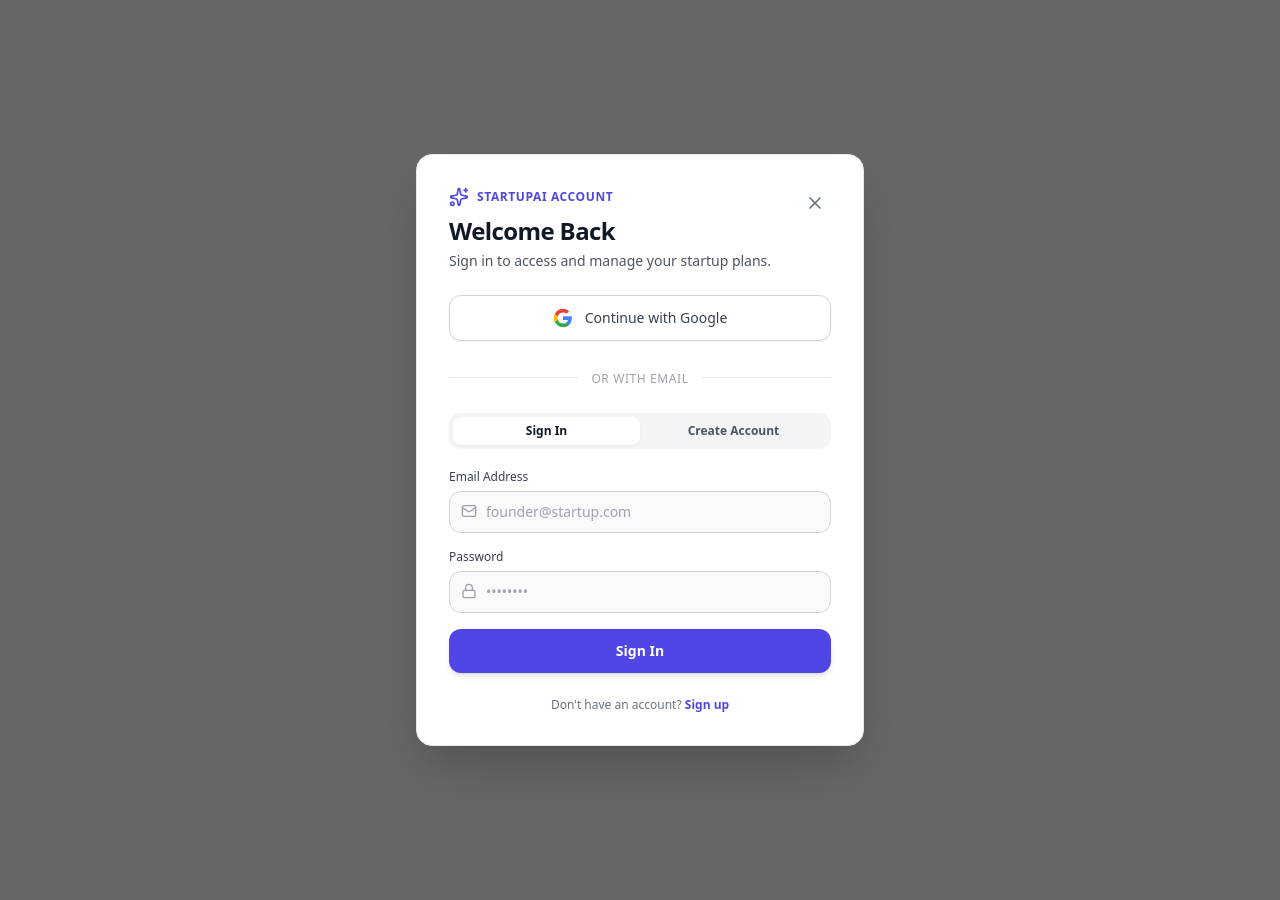
AuthModal Component › displays validation error if password is less than 8 chars on signup
The image size is (1280, 900).
Click the button with test id "auth-mode-signup" at point(734, 431), box [640,417,827,445]
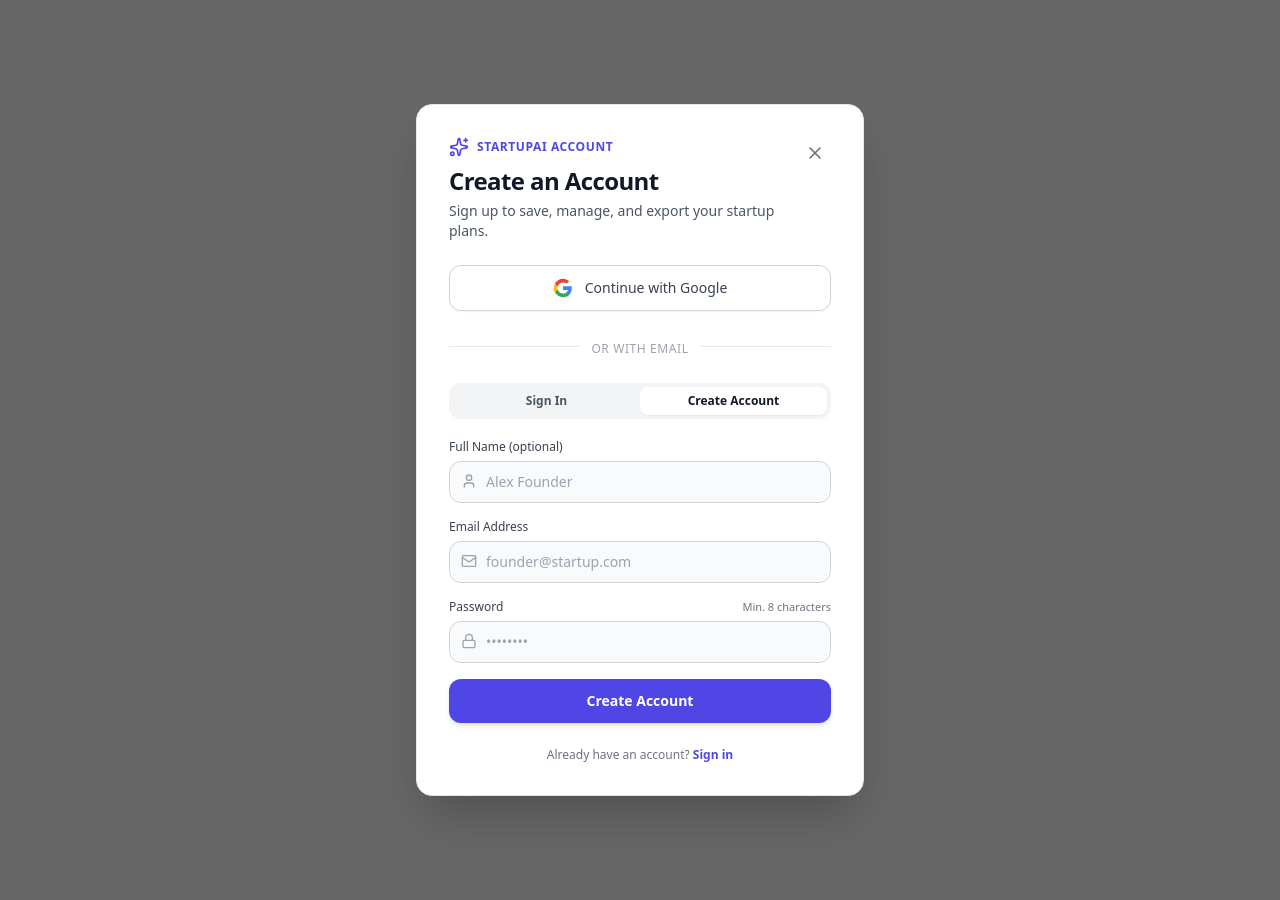
Type "test@example.com" into the field labelled "Email Address" at point(640, 562), box [449,541,831,583]
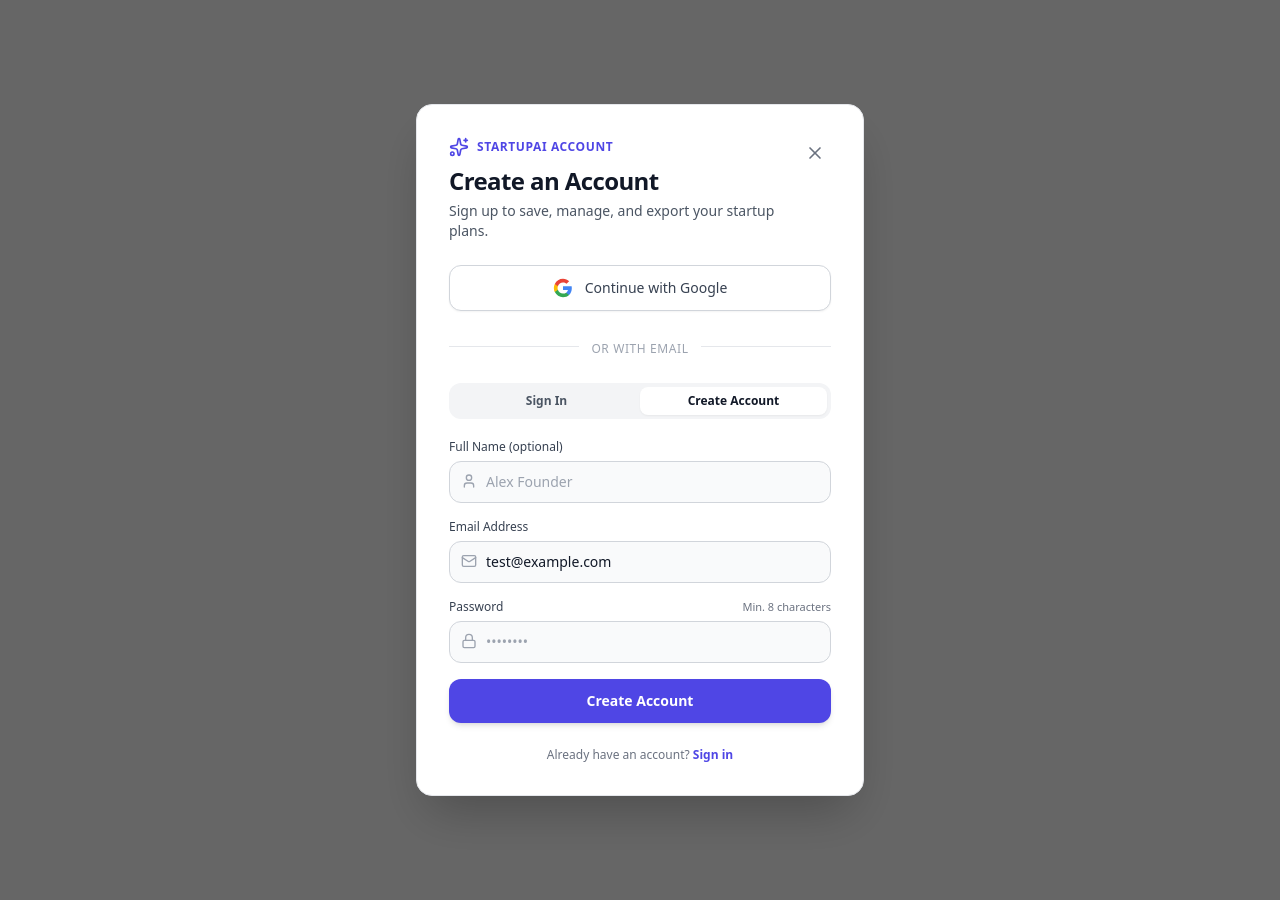
Type "short" into the password field labelled "Password" at point(640, 642), box [449,621,831,663]
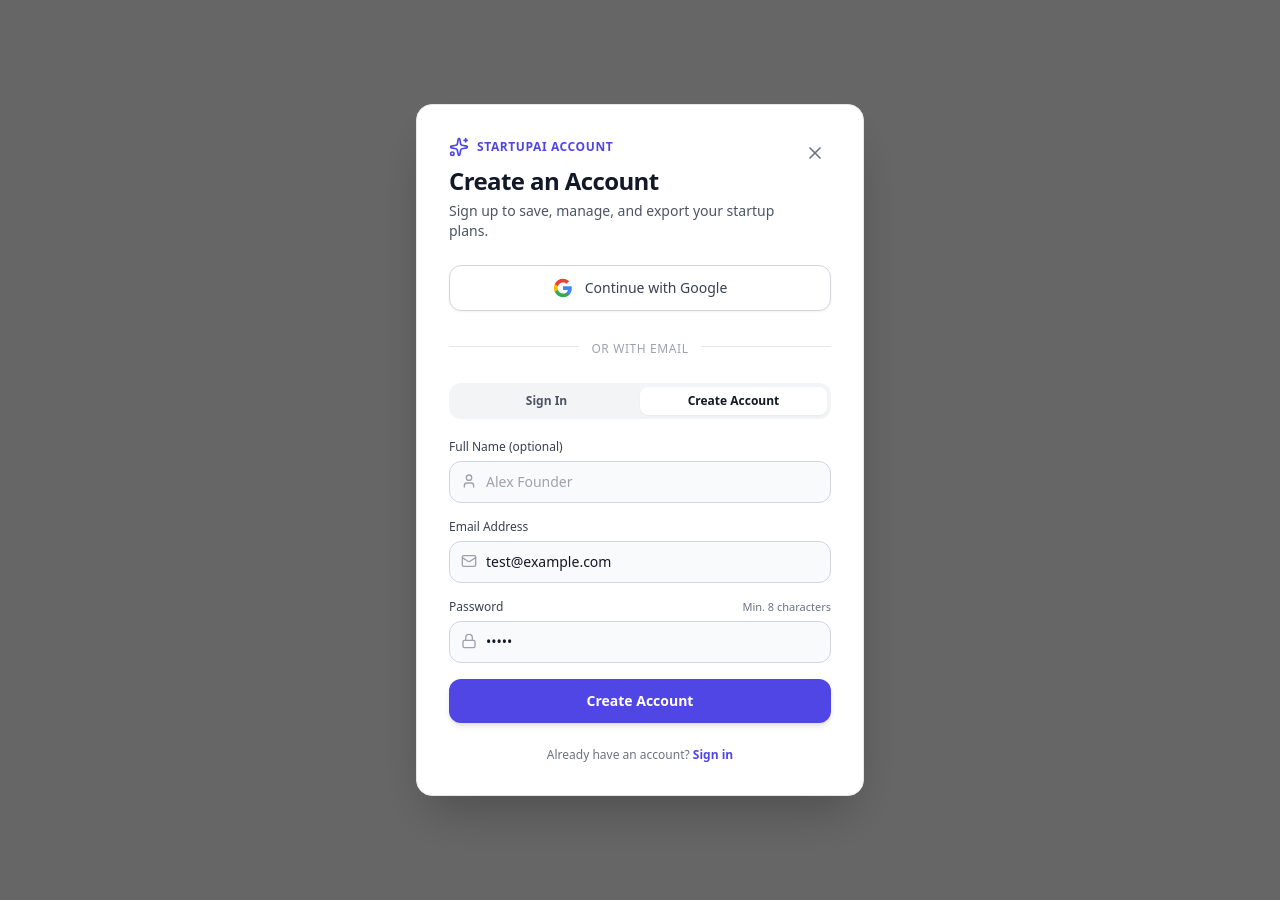
Click the button with test id "auth-submit-btn" at point(640, 701), box [449,679,831,723]
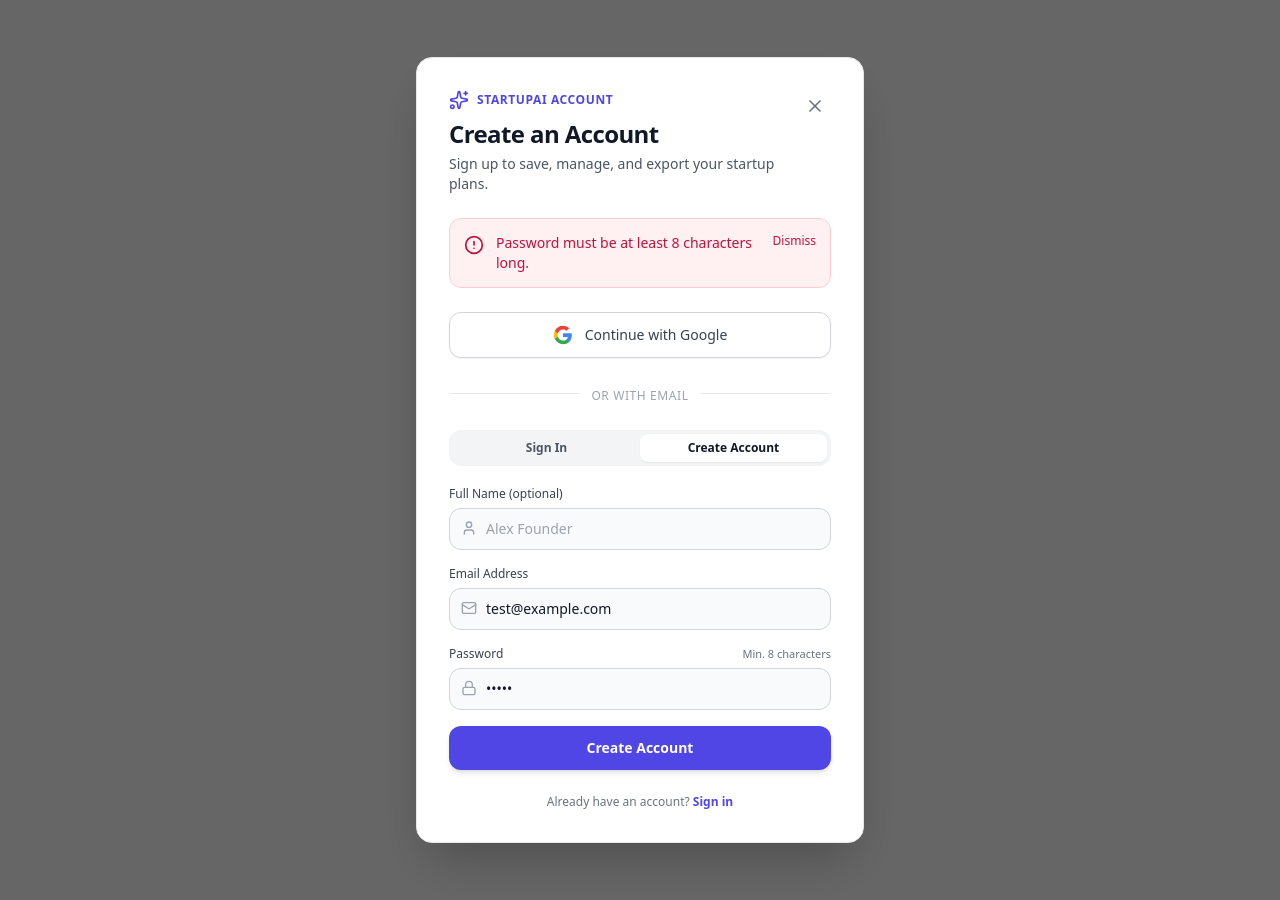
Expected: the text "Password must be at least 8 characters long." is shown, [496,233,761,273]
